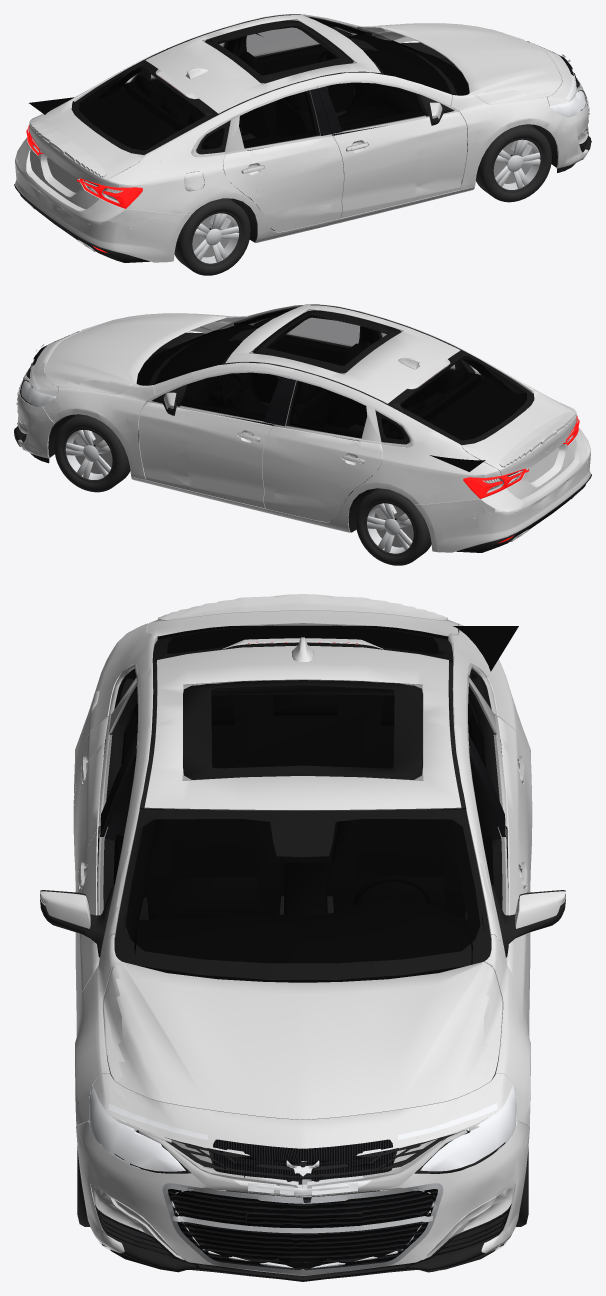
The model's file is toyoda_camri.glb.
The picture shows the model from 3 angles, top to bottom: view 1: azimuth 30°, elevation 25°; view 2: azimuth 150°, elevation 25°; view 3: azimuth 270°, elevation 25°; orthographic projection. The views are drawn at different scales.
Visible parts, largest first — view 1: liner_trim, part_glass, part_roof, part_fender_fr, part_trunk, part_door_fr, part_hood, part_door_rr, part_quarter_rr, part_rear_bumper, wheel_fr, wheel_rr (+4 smaller); view 2: liner_trim, part_glass, part_roof, part_fender_fl, part_door_fl, part_trunk, part_hood, part_door_rl, part_quarter_rl, part_rear_bumper, wheel_fl, wheel_rl (+4 smaller); view 3: liner_trim, part_glass, part_hood, part_roof, core, part_front_bumper, part_trunk, part_fender_fr, part_fender_fl, headlight_r, headlight_l, part_quarter_rr (+7 smaller).
Boxes of the visible parts, x1,y1,x2,y2 form: liner_trim: (14, 14, 591, 262); part_glass: (72, 15, 458, 154); part_roof: (73, 14, 419, 155); part_fender_fr: (415, 52, 570, 203); part_trunk: (15, 97, 162, 222); part_door_fr: (324, 120, 420, 225); part_hood: (379, 23, 574, 98); part_door_rr: (249, 137, 330, 242); part_quarter_rr: (65, 151, 256, 222); part_rear_bumper: (15, 149, 191, 262); wheel_fr: (476, 125, 551, 202); wheel_rr: (174, 198, 250, 275); liner_trim: (14, 304, 591, 552); part_glass: (147, 306, 533, 444); part_roof: (192, 304, 532, 445); part_fender_fl: (37, 342, 193, 493); part_door_fl: (185, 410, 281, 515); part_trunk: (444, 388, 590, 512); part_hood: (32, 313, 226, 390); part_door_rl: (276, 427, 356, 532); part_quarter_rl: (349, 441, 505, 512); part_rear_bumper: (415, 439, 590, 552); wheel_fl: (54, 415, 130, 492); wheel_rl: (355, 488, 431, 565); liner_trim: (40, 625, 565, 1281); part_glass: (100, 623, 505, 980); part_hood: (111, 849, 500, 1148); part_roof: (116, 635, 486, 877); core: (168, 1139, 437, 1270); part_front_bumper: (75, 1085, 530, 1275); part_trunk: (116, 594, 483, 660); part_fender_fr: (75, 850, 165, 1115); part_fender_fl: (440, 863, 530, 1115); headlight_r: (89, 1085, 207, 1171); headlight_l: (398, 1085, 516, 1171); part_quarter_rr: (73, 618, 159, 833).
Bounding box in the file's own units: 4.88 × 1.43 × 2.13.
16 materials, 2 textured.
